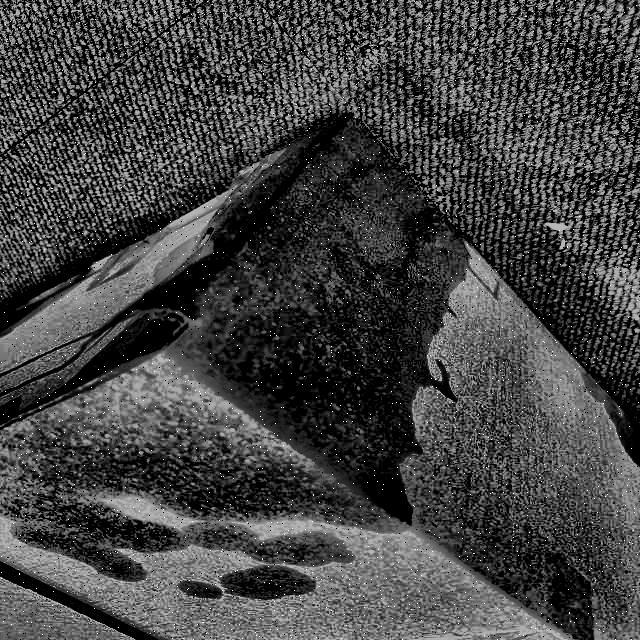box: (1, 95, 639, 640)
wet: (1, 120, 524, 597)
